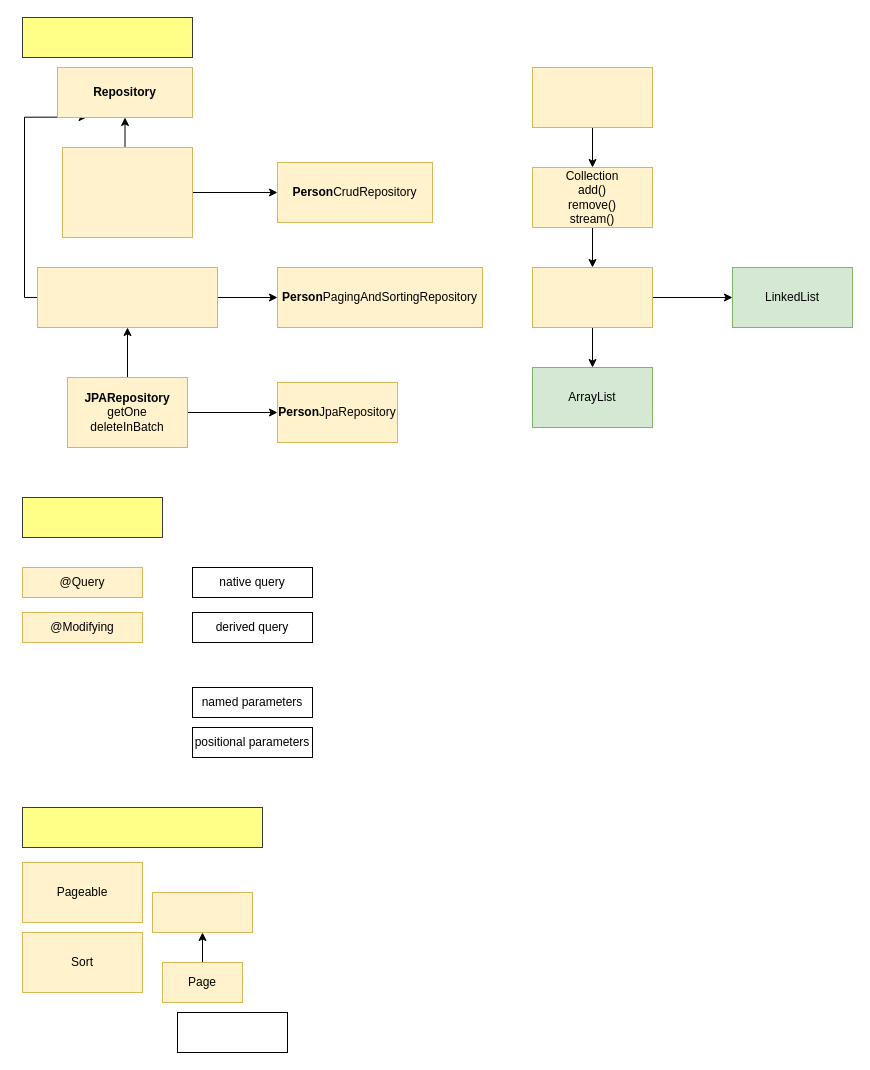
This 870x1070 diagram has some shape labels left out. The box of each missing label's shape, as (x1, y1, x2, y2) in pixels:
content: (176, 1012, 288, 1052)
crud repository: (22, 496, 162, 538)
CrudRepository save findAll findById delete: (62, 146, 192, 238)
Iterable forEach(): (532, 66, 652, 128)
List: (532, 266, 652, 328)
pagination and sorting: (22, 806, 262, 848)
PagingAndSortingRepository findAll(pageable) findAll(sort): (36, 266, 218, 328)
Slice getContent: (152, 892, 252, 932)
spring data repositories: (22, 16, 192, 58)
